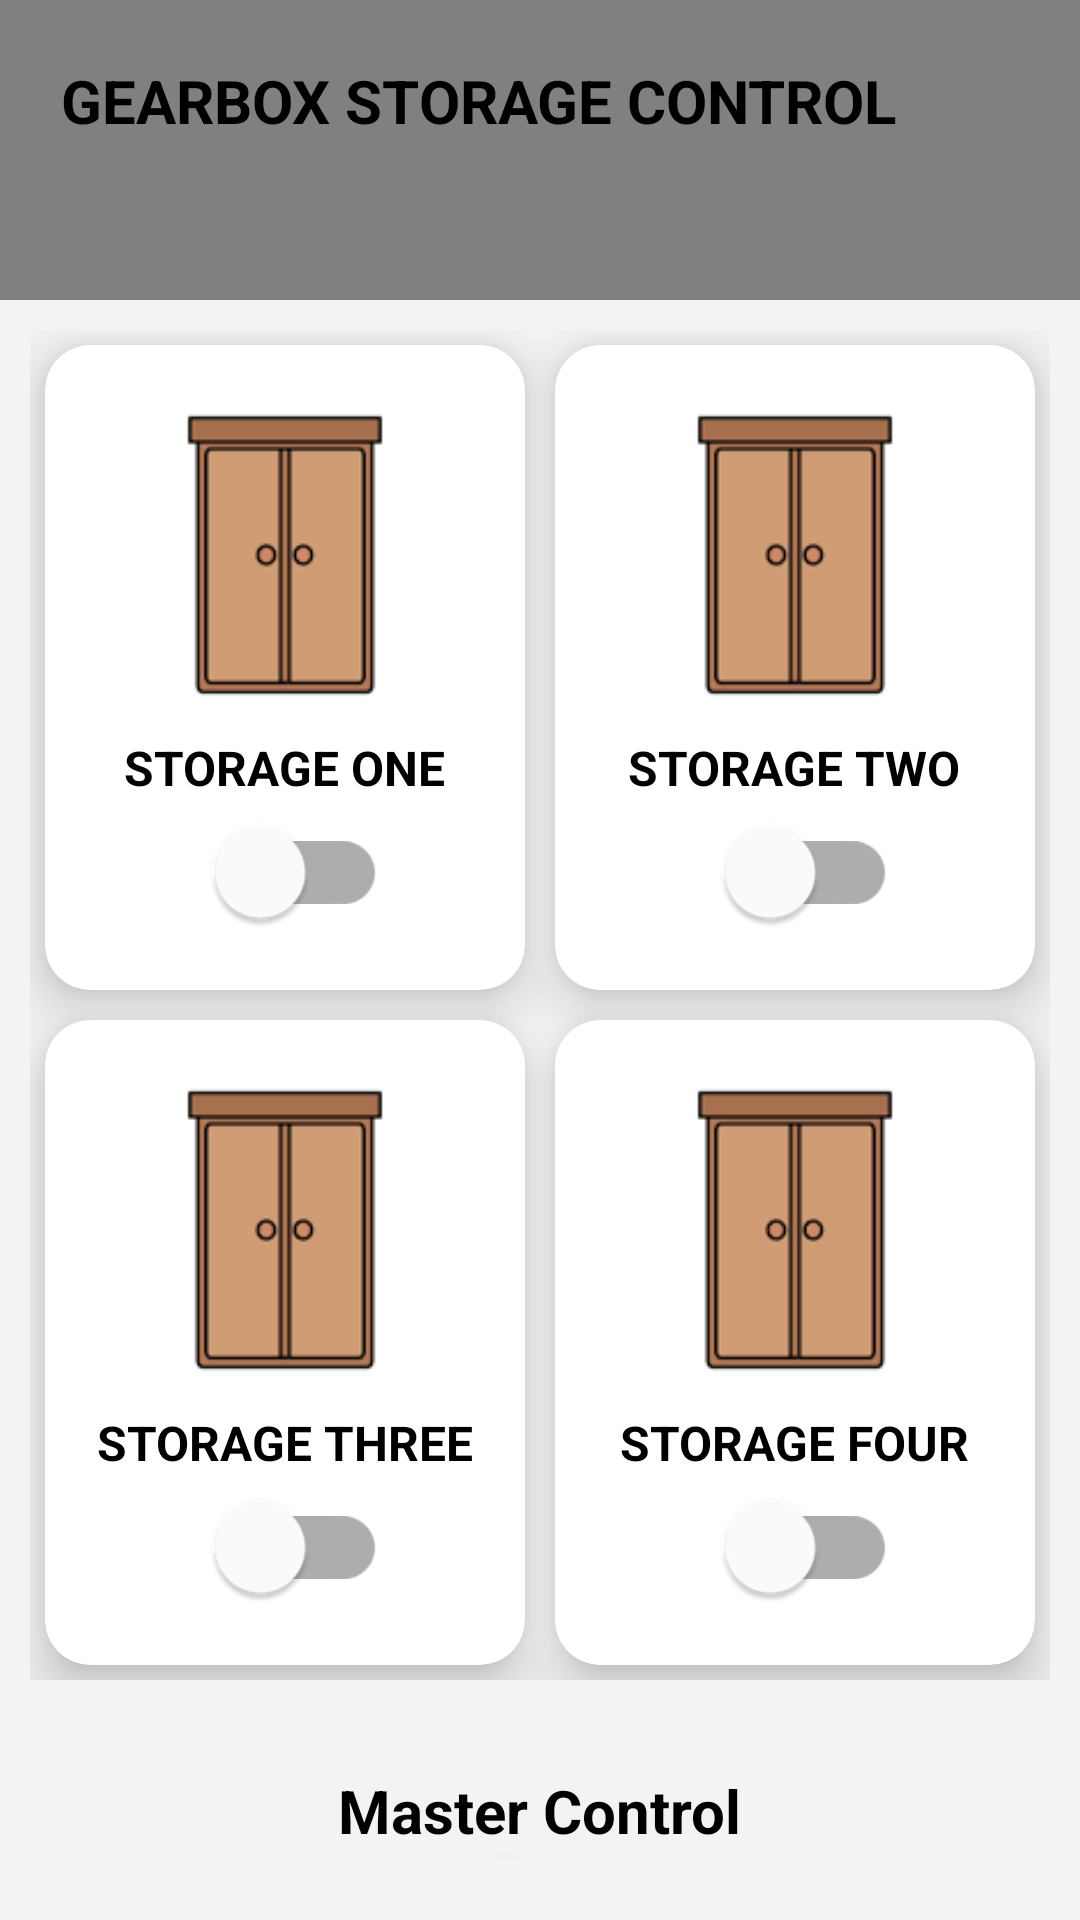

Named icons in this screenshot (1080px×1920px) and their bounding boxes, rect(x1, y1, x2, y2):
closet: rect(187, 415, 383, 695), rect(697, 415, 893, 695), rect(187, 1090, 383, 1370), rect(697, 1090, 893, 1370)
